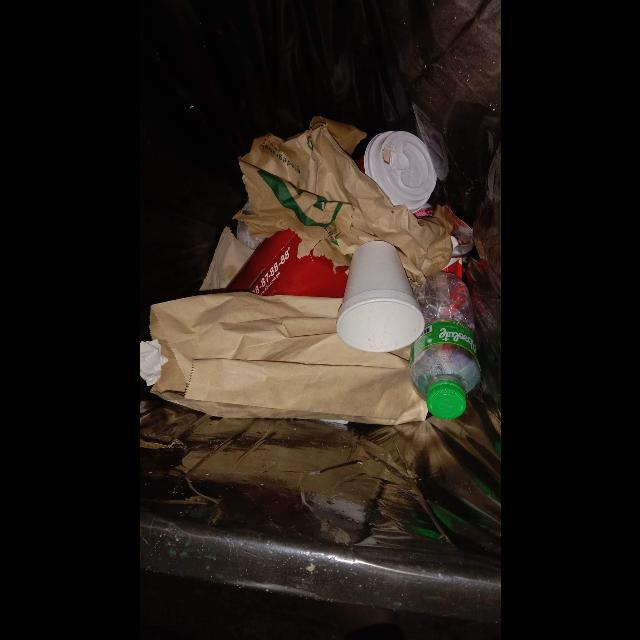paper: (231, 116, 452, 290), (149, 292, 429, 426)
plastic: (408, 272, 481, 421)
styrofoam: (335, 241, 425, 353)
